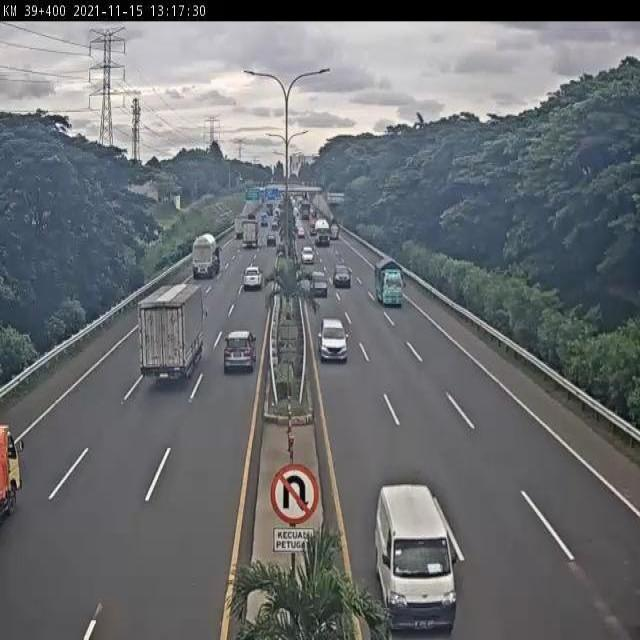Car: (220, 328, 259, 379), (318, 316, 349, 368), (242, 264, 264, 291), (333, 263, 351, 291), (310, 271, 326, 297), (300, 244, 314, 266), (297, 227, 306, 243), (267, 234, 276, 245)
Truck: (135, 281, 208, 388), (376, 256, 406, 312), (190, 233, 222, 283), (234, 214, 258, 242), (314, 216, 332, 253), (242, 219, 258, 251), (259, 213, 269, 231)
Van: (370, 484, 460, 639)
